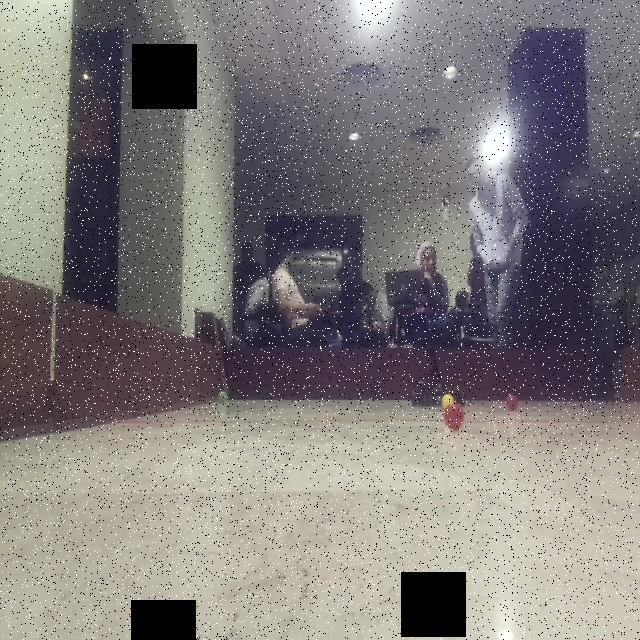ball: (442, 403, 467, 432), (504, 392, 522, 414), (440, 390, 457, 410)
